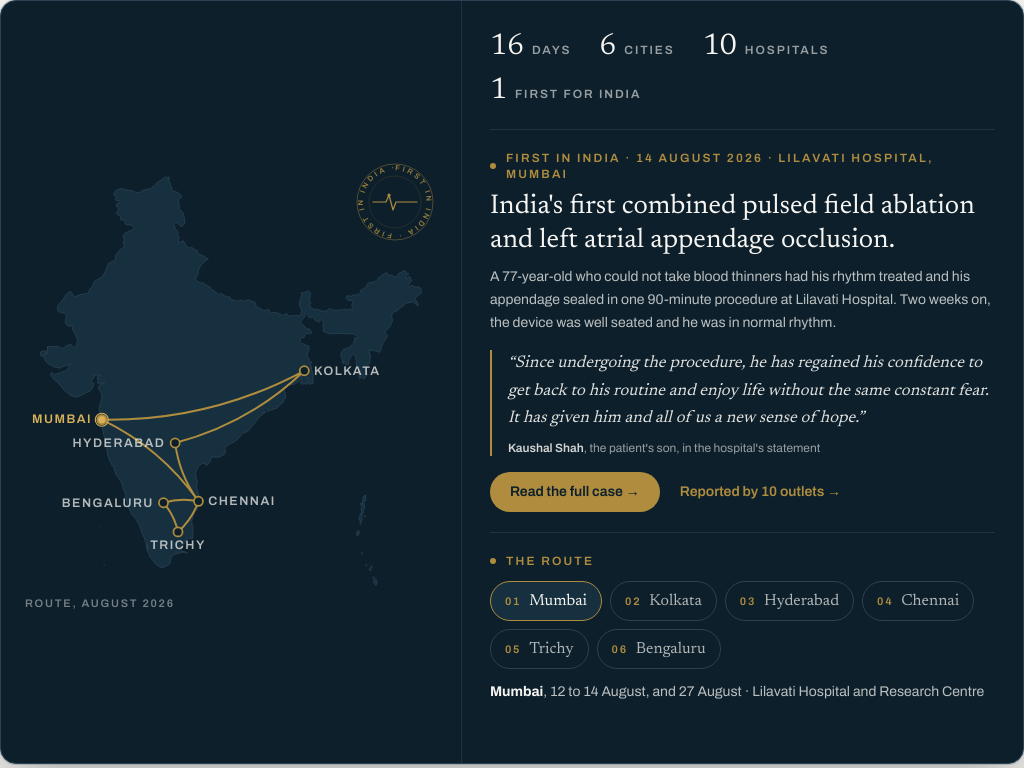
choosing Kolkata shows its hospital
Click the tab "02 Kolkata".
click(664, 601)  # box x1=610 y1=581 x2=717 y2=621
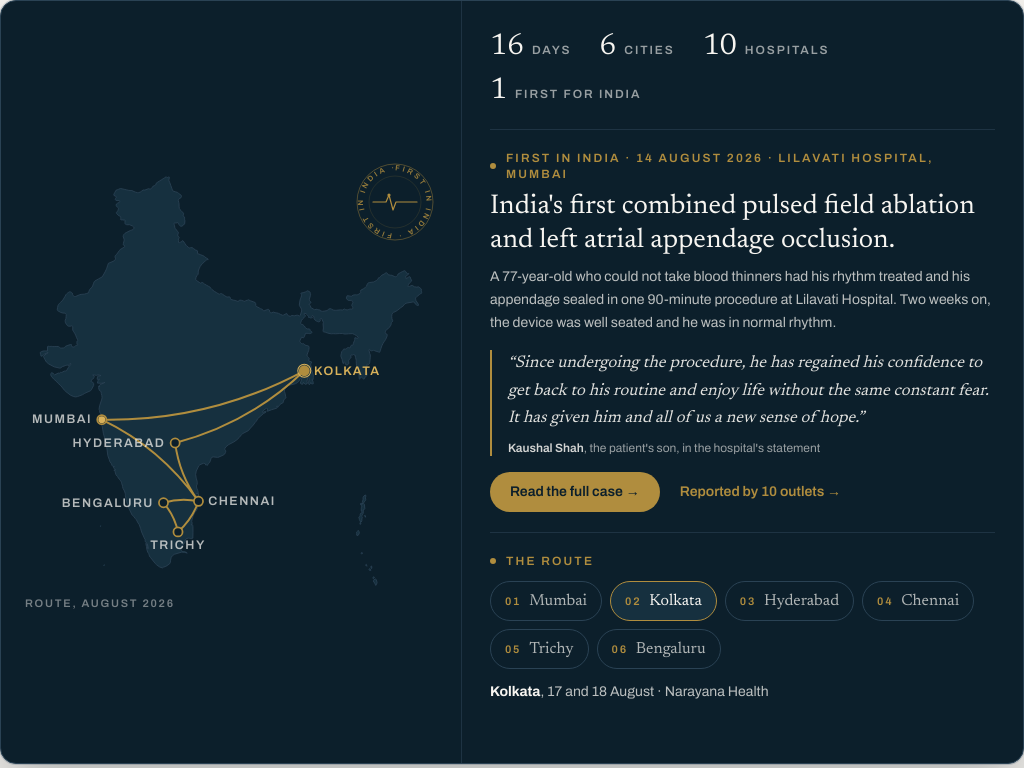
Expected: the panel shows "Narayana Health", x1=665 y1=684 x2=769 y2=699
